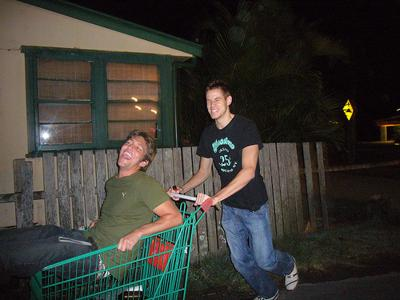person: (162, 77, 302, 298)
